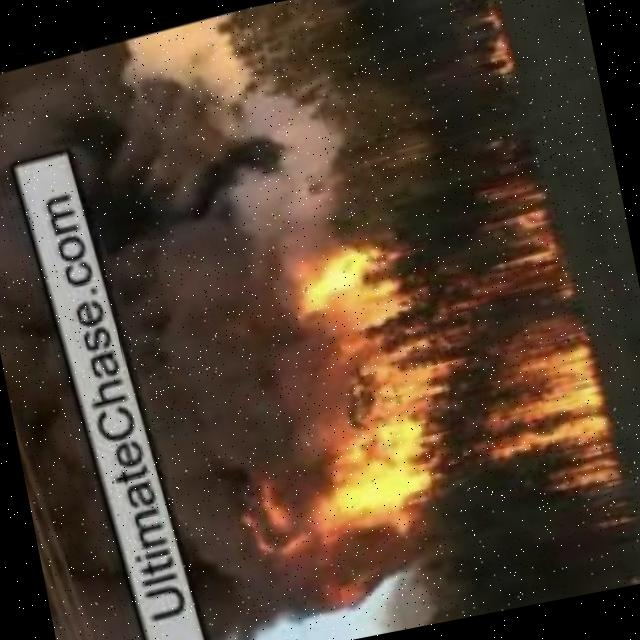fire: (165, 180, 639, 611), (462, 0, 516, 88)
